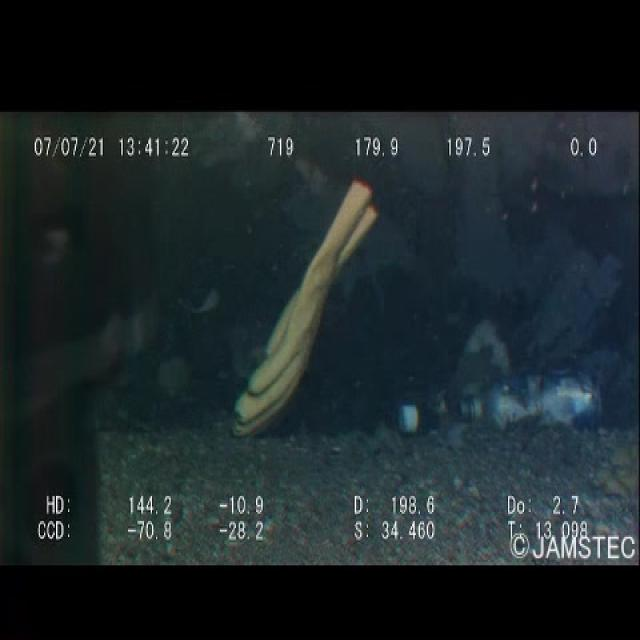plastic: (389, 377, 475, 457)
